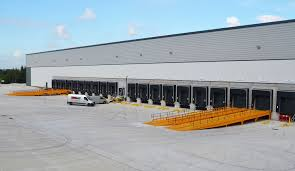Yard Ramp: (144, 106, 271, 132)
